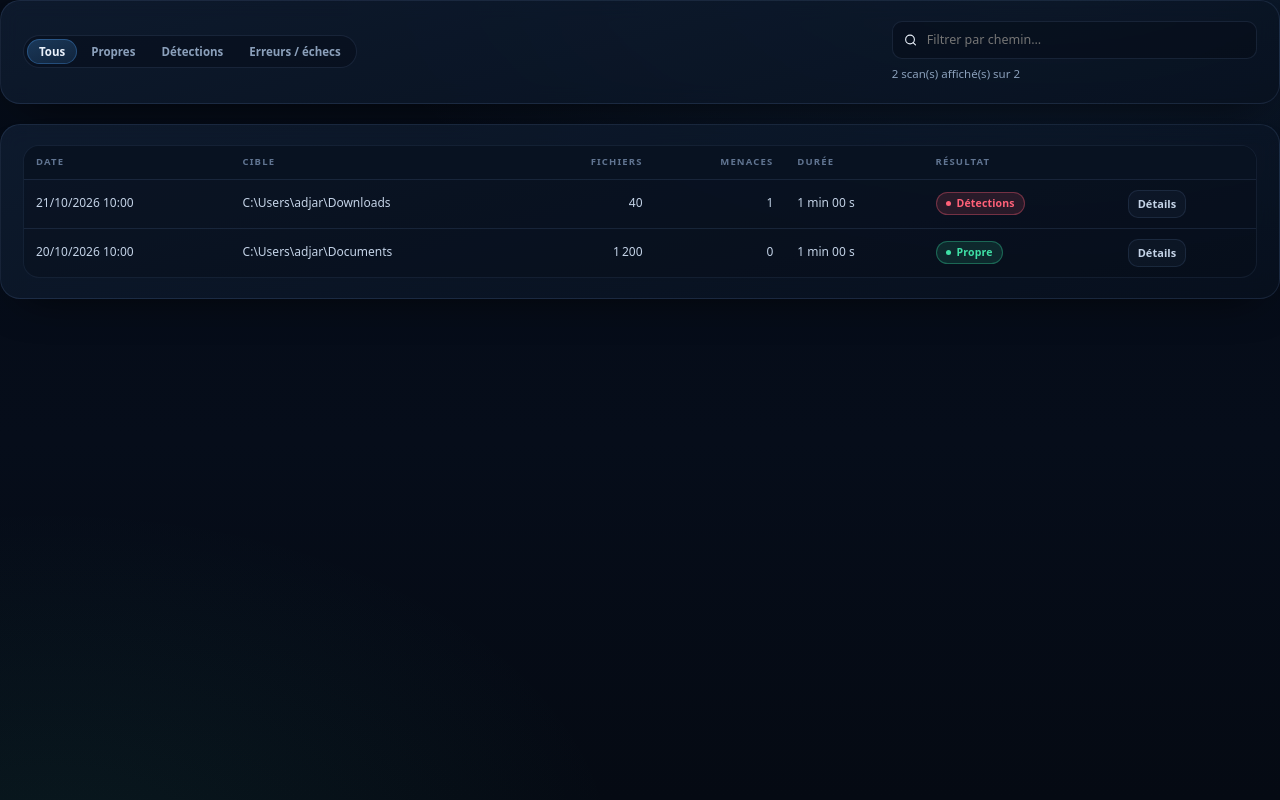
it: History › opens the stored detections in the report modal
Expected: the text "C:\\Users\\adjar\\Documents" is shown, [231, 228, 526, 276]
Click the button "Détails" in the row of "21/10/2026 10:00" at [1157, 204], box [1128, 190, 1186, 218]
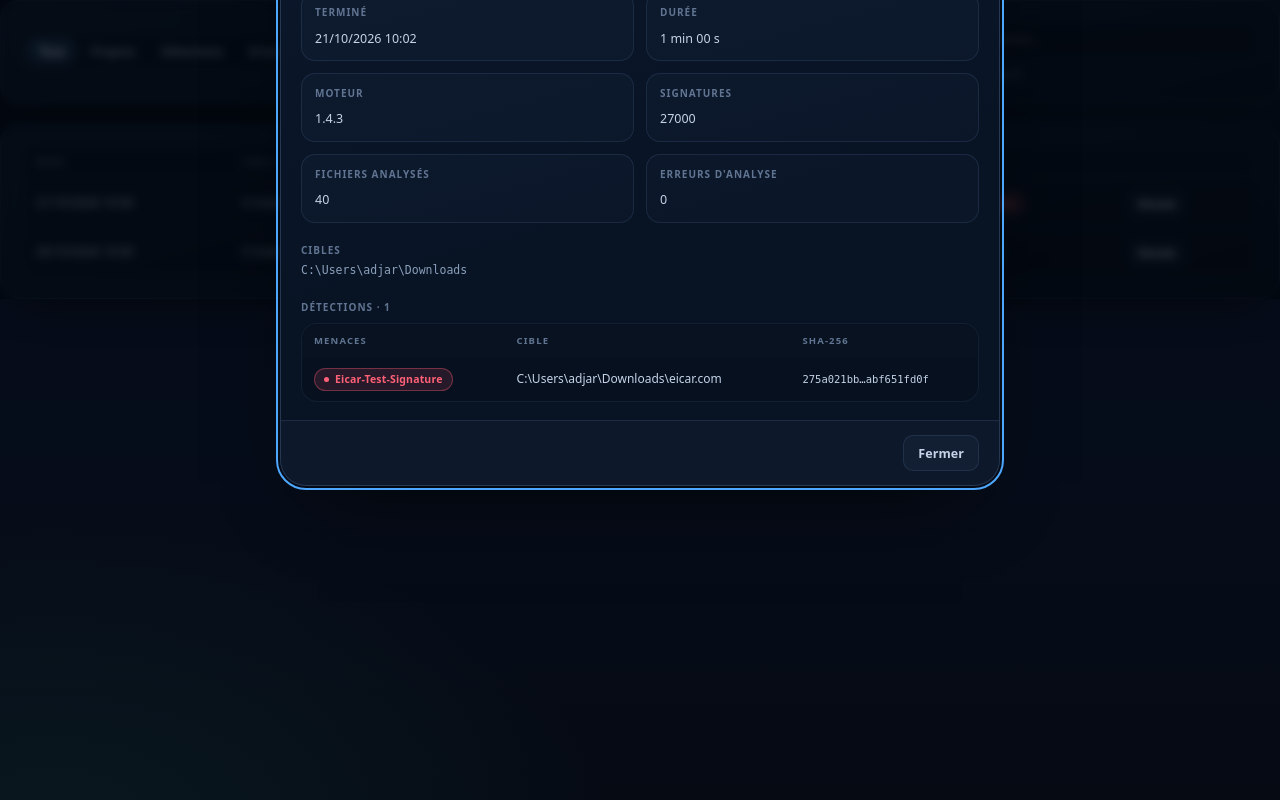
Expected: the text "Eicar-Test-Signature" is shown, [314, 368, 452, 391]
Expected: the text "C:\\Users\\adjar\\Downloads\\eicar.com" is shown, [505, 358, 790, 401]
